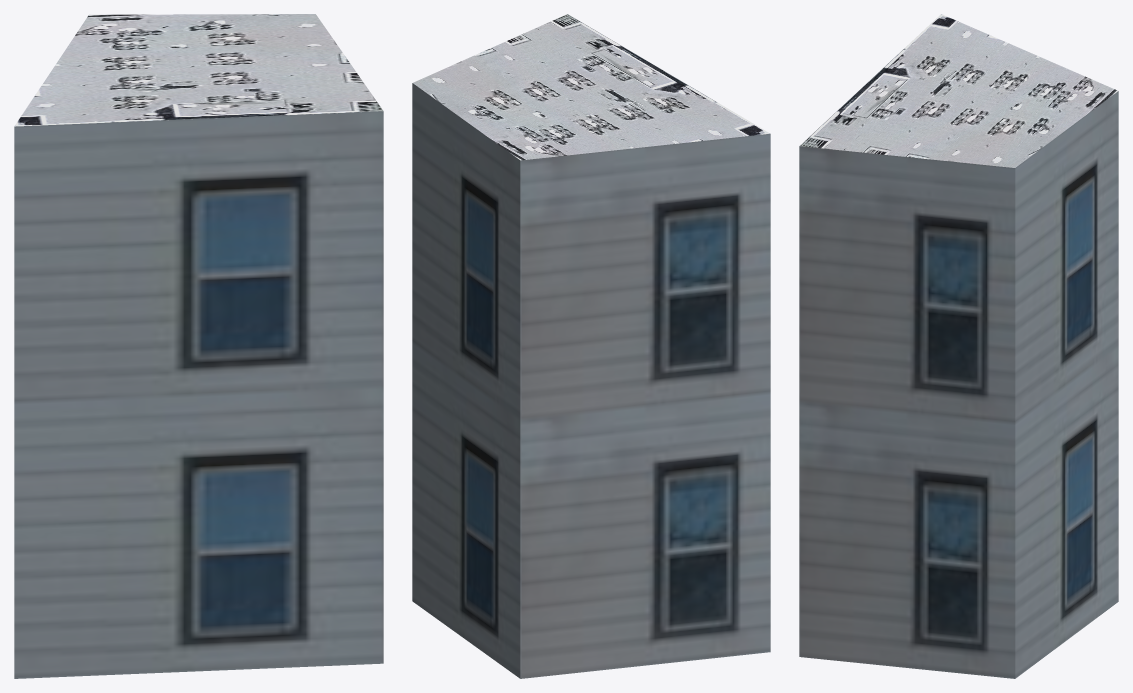
The model's file is ResTex__3453.fbx.
3 renders of one model, left to right at view 1: azimuth 30°, elevation 25°; view 2: azimuth 150°, elevation 25°; view 3: azimuth 270°, elevation 25°, orthographic. The views are drawn at different scales.
Visible parts, largest first — view 1: CityEngineMaterial_18_m, CityEngineMaterial_4_m; view 2: CityEngineMaterial_18_m, CityEngineMaterial_4_m; view 3: CityEngineMaterial_18_m, CityEngineMaterial_4_m.
Part boxes in pixels (x1=…): CityEngineMaterial_18_m: x1=14, y1=111, x2=383, y2=678; CityEngineMaterial_4_m: x1=14, y1=14, x2=383, y2=126; CityEngineMaterial_18_m: x1=412, y1=83, x2=770, y2=678; CityEngineMaterial_4_m: x1=413, y1=14, x2=769, y2=160; CityEngineMaterial_18_m: x1=799, y1=91, x2=1118, y2=678; CityEngineMaterial_4_m: x1=800, y1=14, x2=1117, y2=167.
Size of the model in its own units: 3.88 by 6 by 3.4.
Materials: 2 (2 with a texture image).
